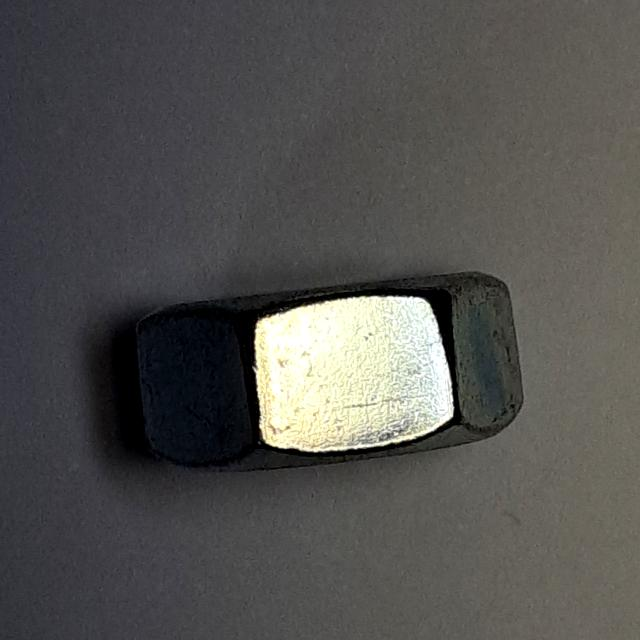Side_Excellent: (122, 247, 538, 497)
